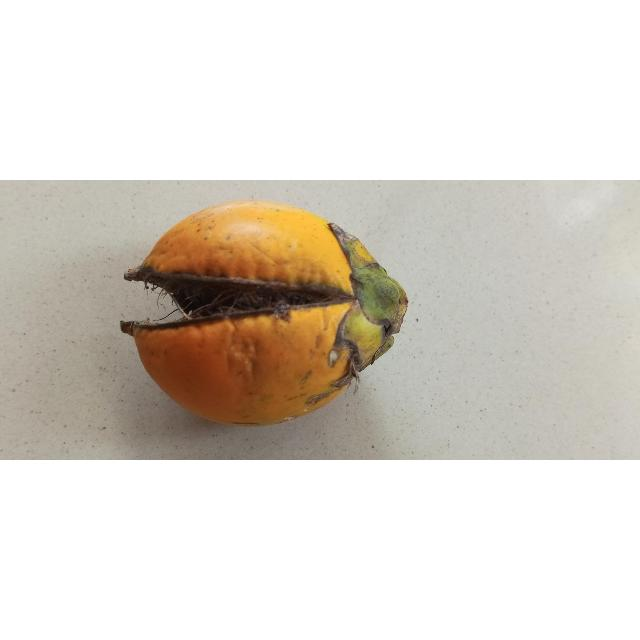damaged: (121, 201, 408, 427)
